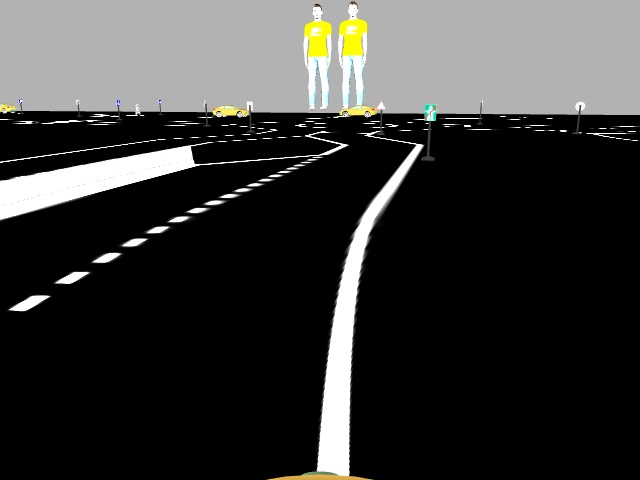HighwayExit: (422, 102, 437, 121)
